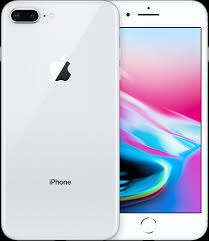iphone8: (1, 1, 123, 239), (117, 1, 209, 241)
